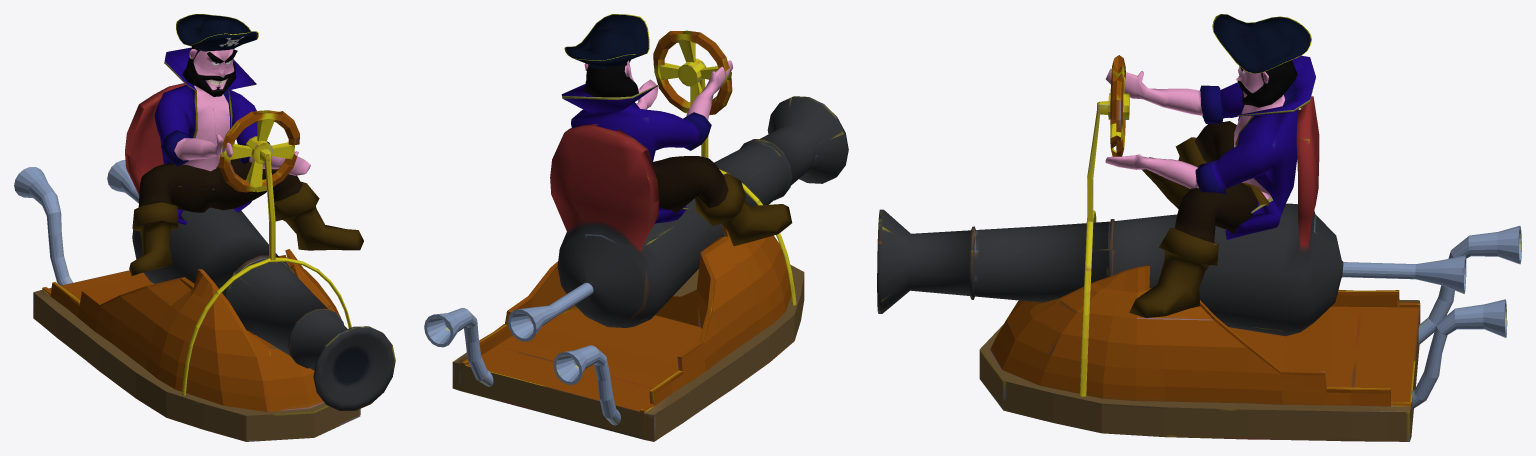
The model's file is pirataGiroDER_000332.obj.
3 views of the same model, side by side, from view 1: azimuth 30°, elevation 25°; view 2: azimuth 150°, elevation 25°; view 3: azimuth 270°, elevation 25° (orthographic). The views are drawn at different scales.
Visible parts, largest first — view 1: carro_pirata, Pirata_PirataH; view 2: carro_pirata, Pirata_PirataH; view 3: carro_pirata, Pirata_PirataH.
Part boxes in pixels (x1,y1,x2,y2): carro_pirata: (14,83,395,441); Pirata_PirataH: (129,14,363,275); carro_pirata: (424,30,848,441); Pirata_PirataH: (561,14,792,246); carro_pirata: (877,55,1521,441); Pirata_PirataH: (1105,14,1315,317).
Bounding box in the file's own units: 5.66 × 7.68 × 12.1.
2 materials, 2 textured.
